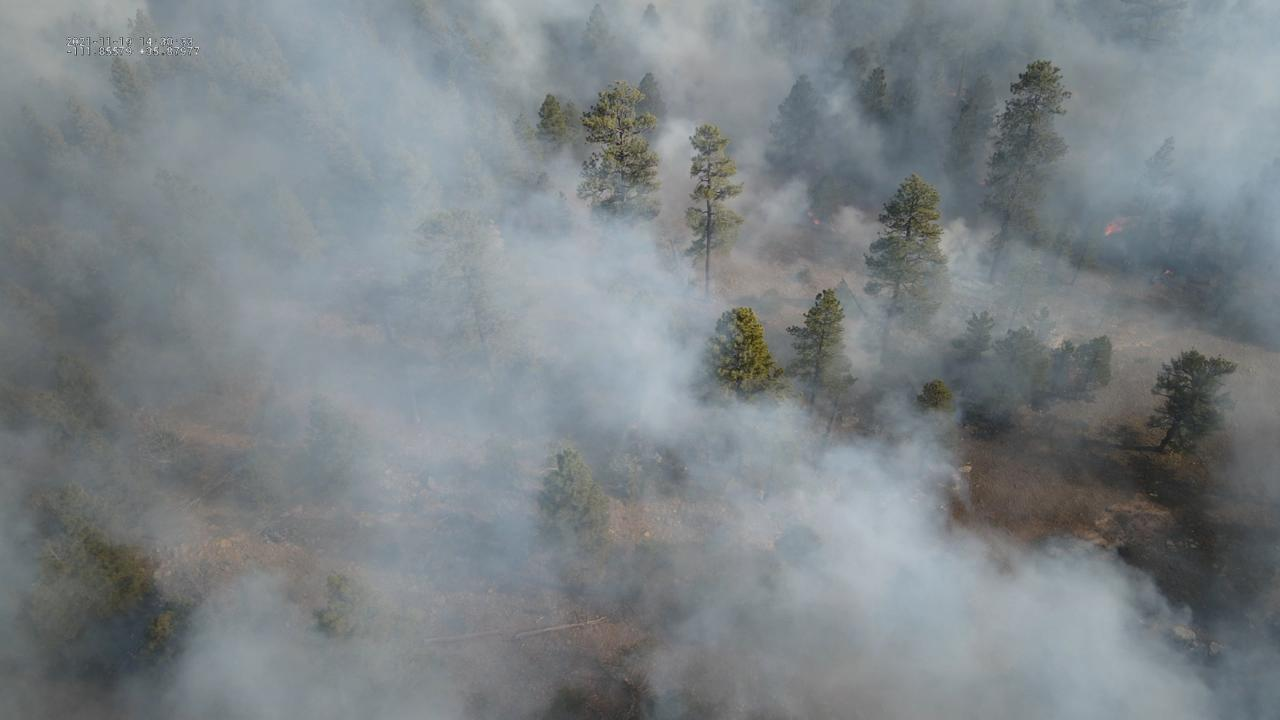fire: (1101, 214, 1126, 238), (1162, 268, 1173, 276)
smoke: (0, 0, 1280, 720)
